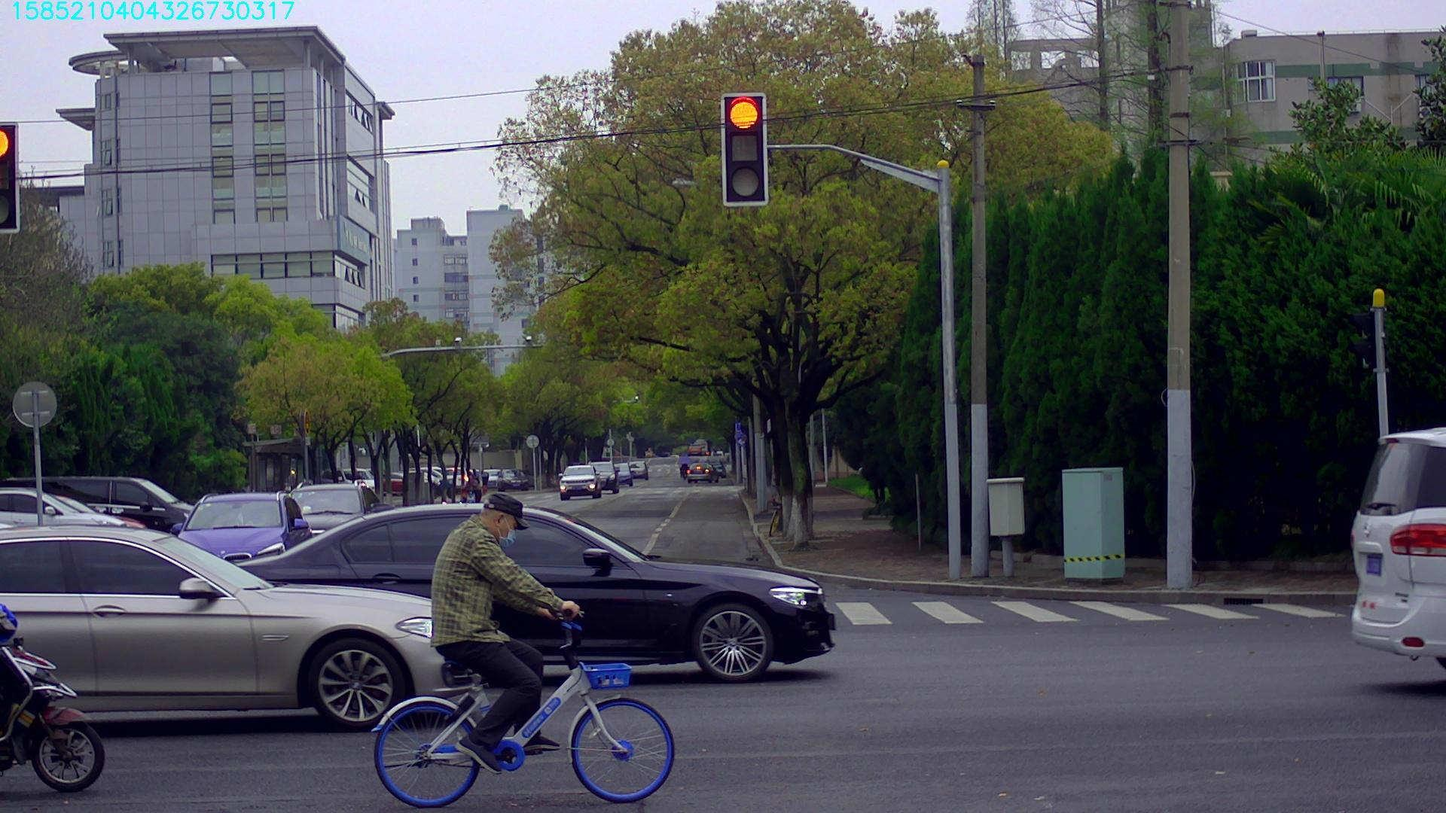red: (722, 94, 766, 204), (2, 123, 17, 231)
